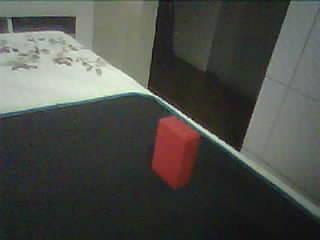lego: (151, 114, 200, 189)
